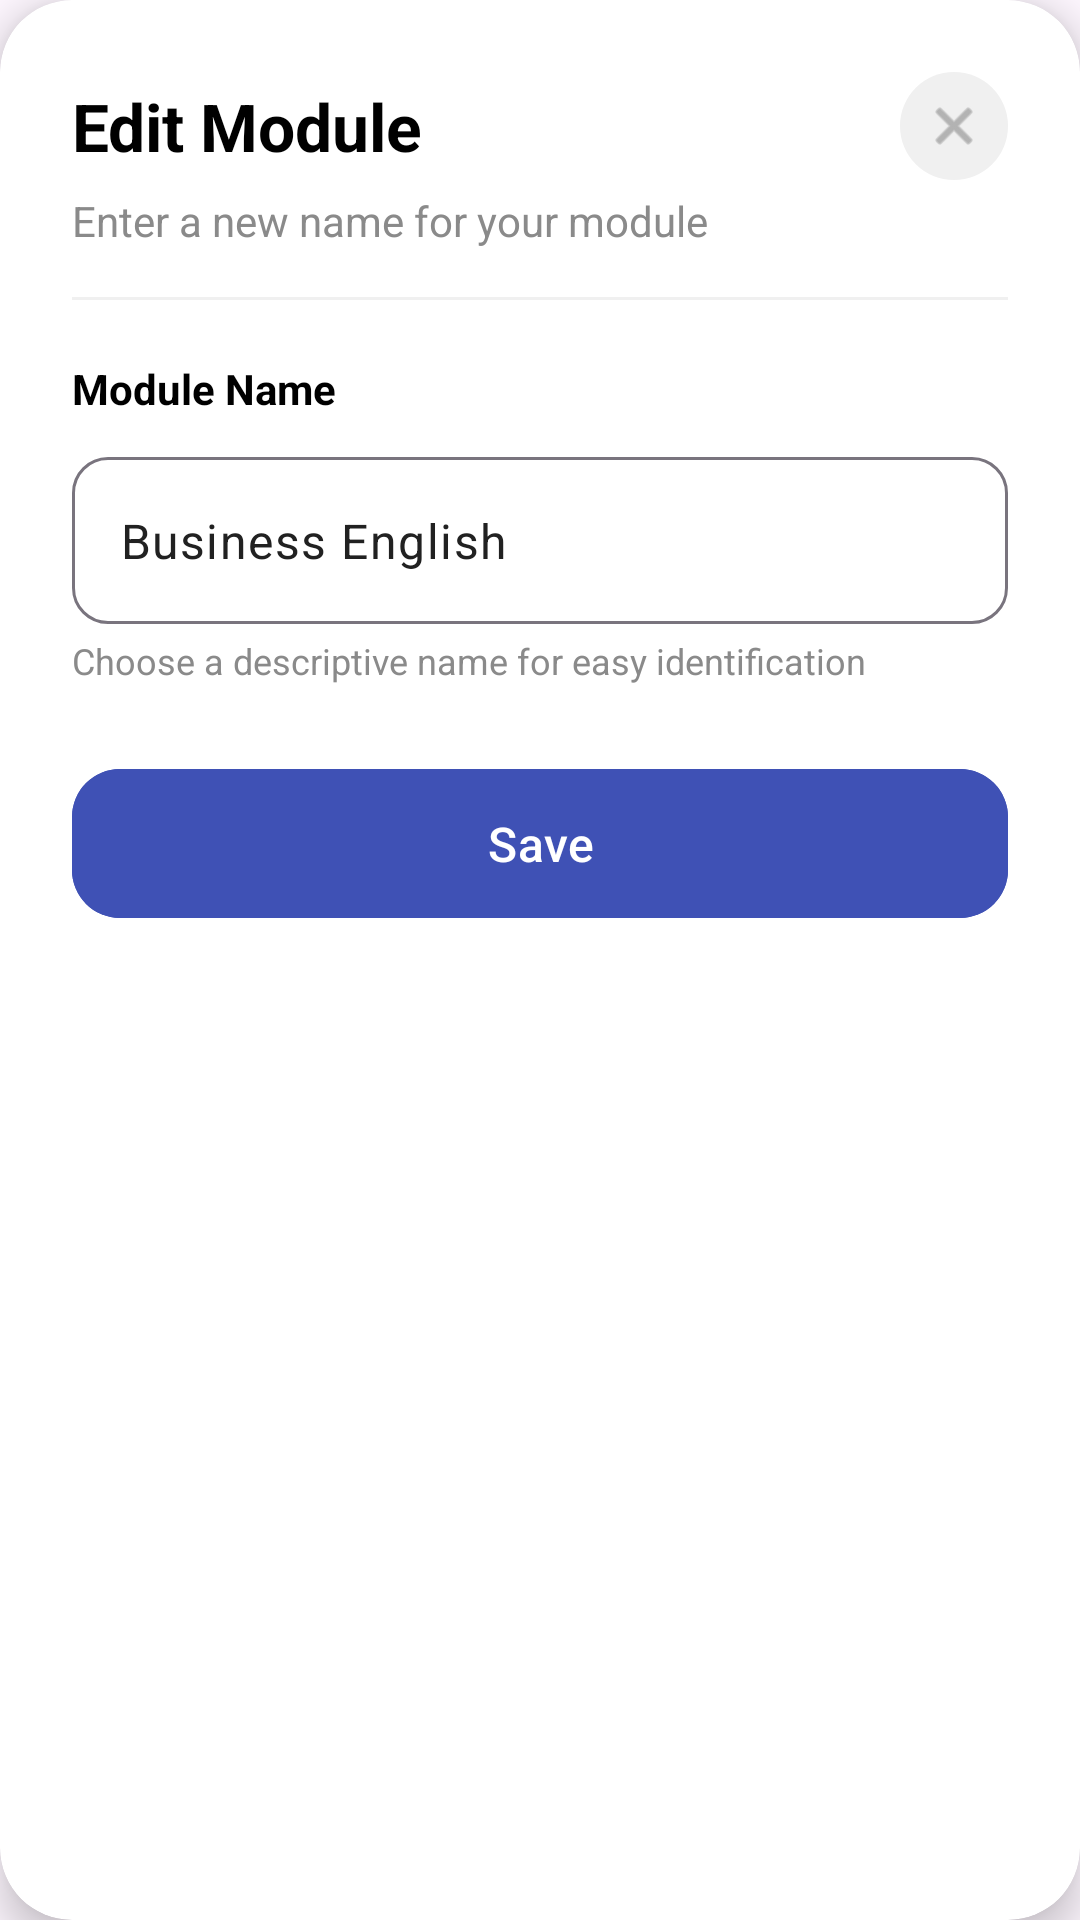

Locate icon controls on the screen. Image size 1080px x 1920px, boxes as (x1, y1, x2, y2).
close clear cancel: (900, 72, 1008, 180)
